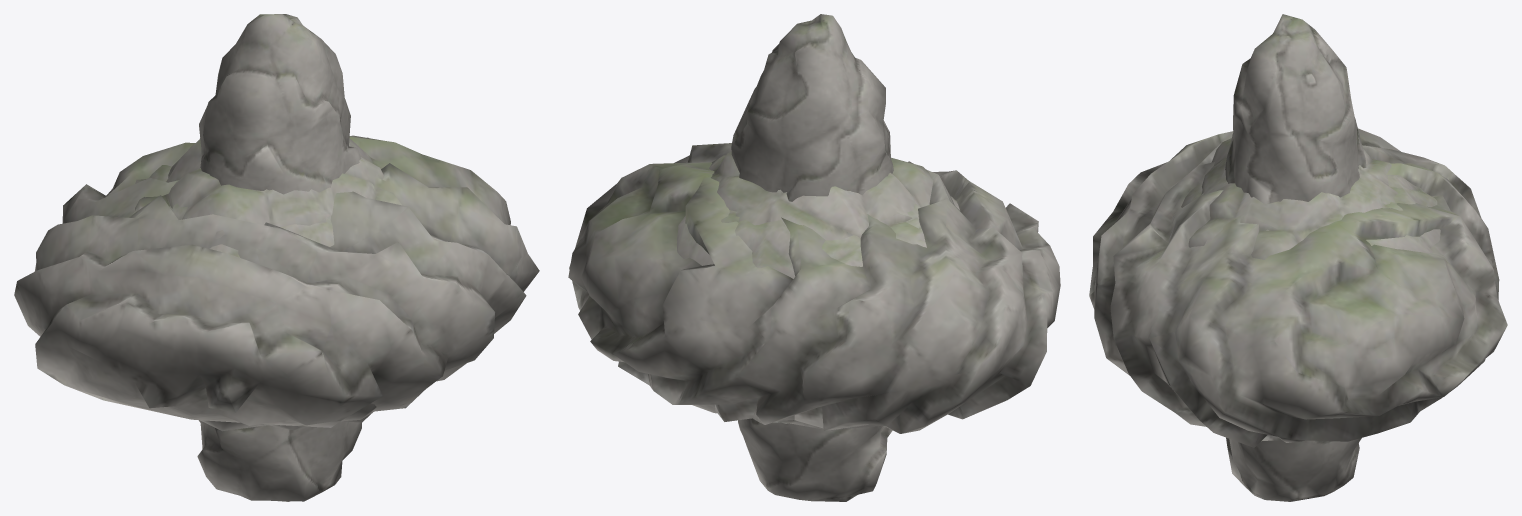
File: wv_rocks.glb
3 renders of one model, left to right at view 1: azimuth 30°, elevation 25°; view 2: azimuth 150°, elevation 25°; view 3: azimuth 270°, elevation 25°, orthographic. The views are drawn at different scales.
Parts seen in each view (by area): view 1: wv_rock_slab_LOD0, wv_rock_standing_LOD0, wv_rock_block_LOD0, wv_rock_boulder_LOD0; view 2: wv_rock_slab_LOD0, wv_rock_standing_LOD0, wv_rock_block_LOD0, wv_rock_boulder_LOD0; view 3: wv_rock_slab_LOD0, wv_rock_standing_LOD0, wv_rock_block_LOD0, wv_rock_boulder_LOD0.
Part boxes in pixels (left/top/right/bottom): wv_rock_slab_LOD0: left=14, top=135, right=539, bottom=427; wv_rock_standing_LOD0: left=197, top=14, right=361, bottom=501; wv_rock_block_LOD0: left=135, top=138, right=401, bottom=431; wv_rock_boulder_LOD0: left=132, top=165, right=376, bottom=422; wv_rock_slab_LOD0: left=568, top=143, right=1060, bottom=433; wv_rock_standing_LOD0: left=731, top=14, right=893, bottom=501; wv_rock_block_LOD0: left=709, top=151, right=933, bottom=430; wv_rock_boulder_LOD0: left=677, top=196, right=959, bottom=420; wv_rock_slab_LOD0: left=1089, top=128, right=1507, bottom=447; wv_rock_standing_LOD0: left=1225, top=14, right=1366, bottom=501; wv_rock_block_LOD0: left=1188, top=138, right=1397, bottom=259; wv_rock_boulder_LOD0: left=1181, top=163, right=1440, bottom=253.
Size of what is drawn, in the model's own units: 3.23 by 3.14 by 2.55.
1 material, 1 textured.
